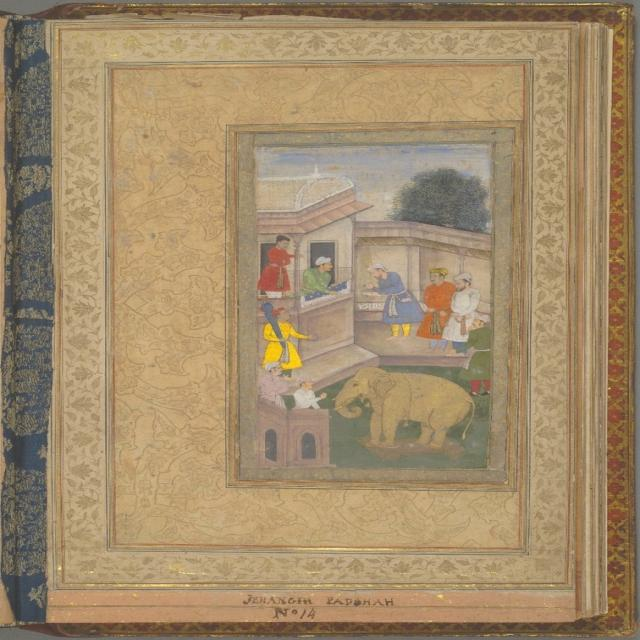elephant: (331, 368, 481, 451)
